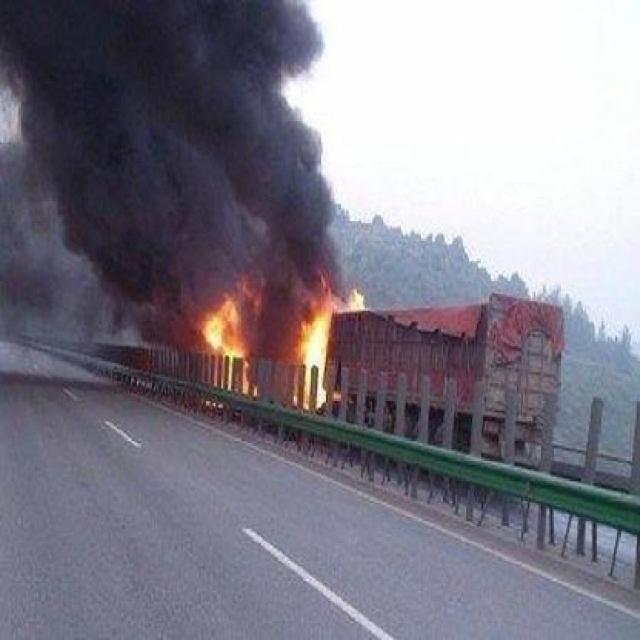Fire: (302, 272, 369, 405), (206, 276, 254, 392)
Smoke: (0, 0, 332, 287)
